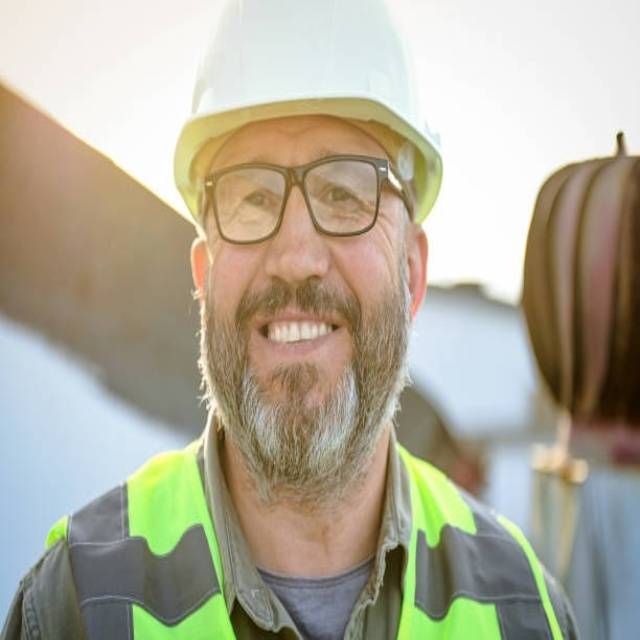Gafas: (200, 155, 413, 244)
Sin_mascara: (242, 281, 356, 392)
